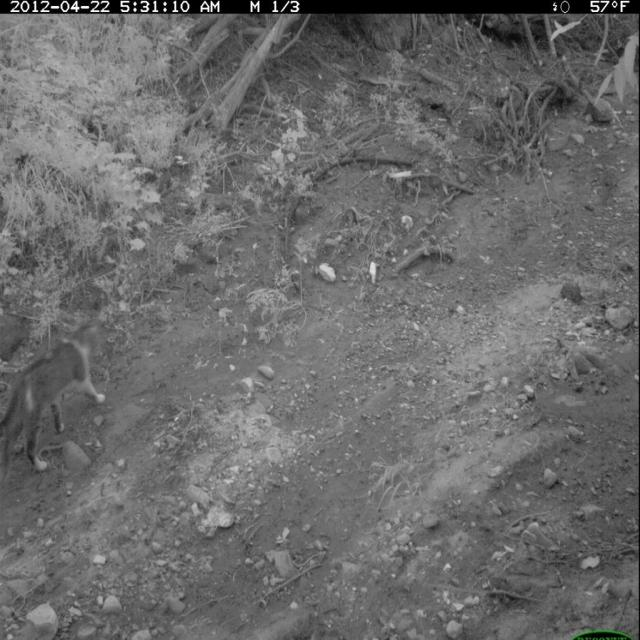cat: (1, 307, 113, 488)
